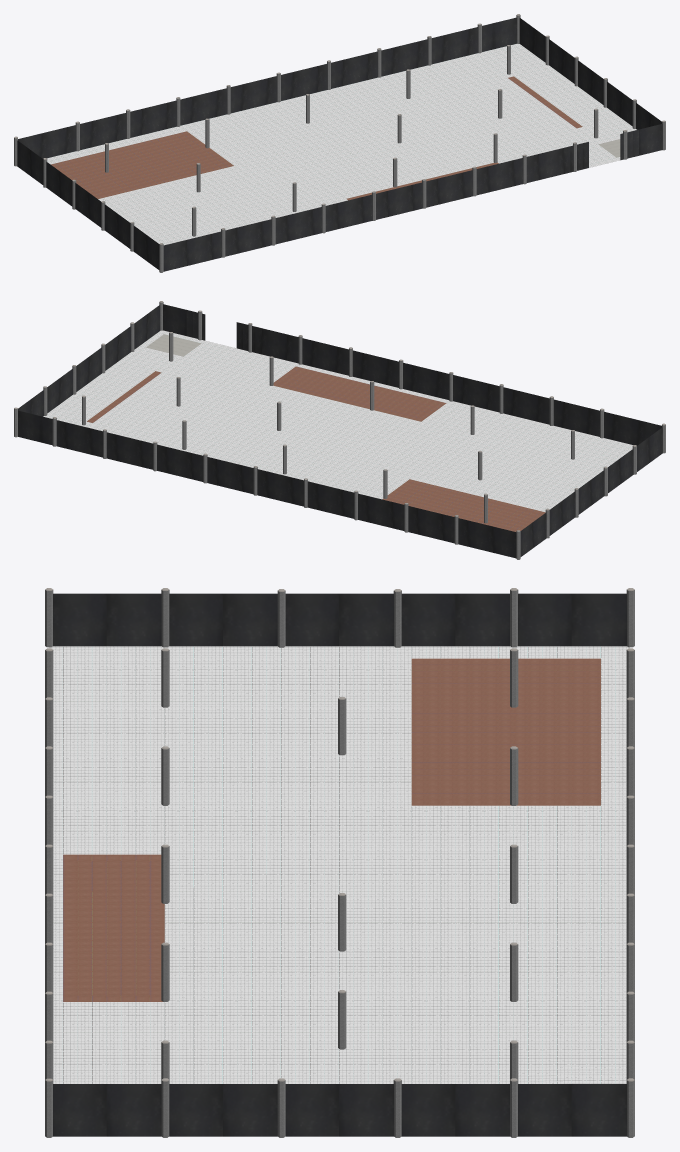
The model's file is Level_2_Floor.fbx.
3 renders of one model, top to bottom at view 1: azimuth 30°, elevation 25°; view 2: azimuth 150°, elevation 25°; view 3: azimuth 270°, elevation 25°, orthographic. The views are drawn at different scales.
Parts seen in each view (by area): view 1: Level_2_Floor; view 2: Level_2_Floor; view 3: Level_2_Floor.
Boxes of the visible parts, <box> form: Level_2_Floor: <box>14,14,665,272</box>; Level_2_Floor: <box>14,301,665,559</box>; Level_2_Floor: <box>45,588,634,1137</box>.
Bounding box in the file's own units: 282 × 15.25 × 142.
